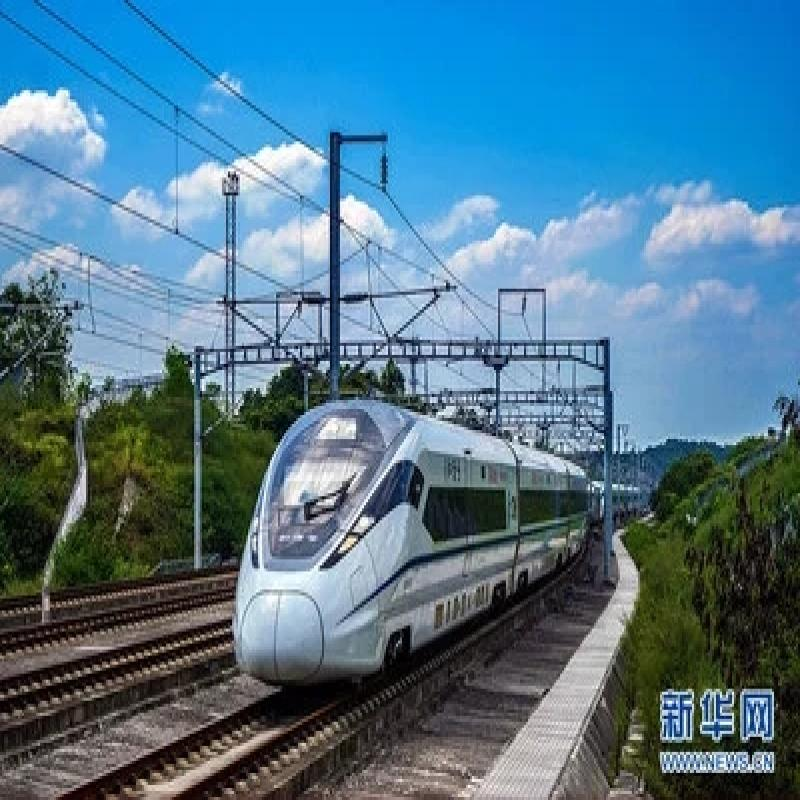train: (211, 392, 597, 696)
